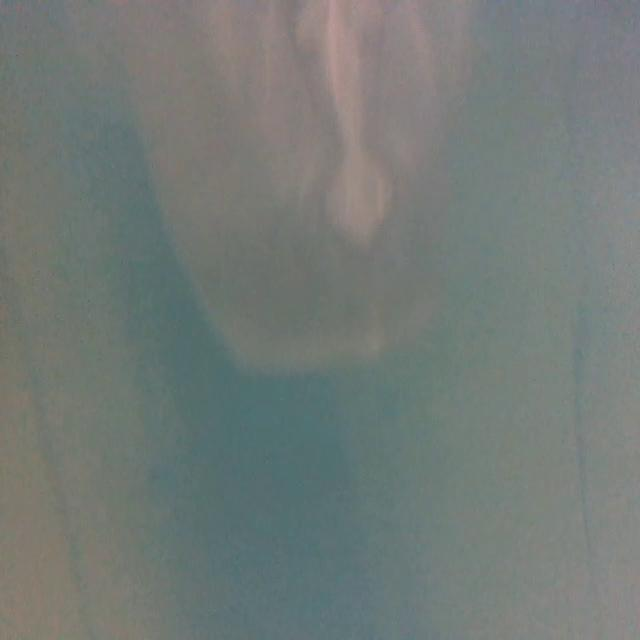plastic bags: (194, 0, 440, 367)
